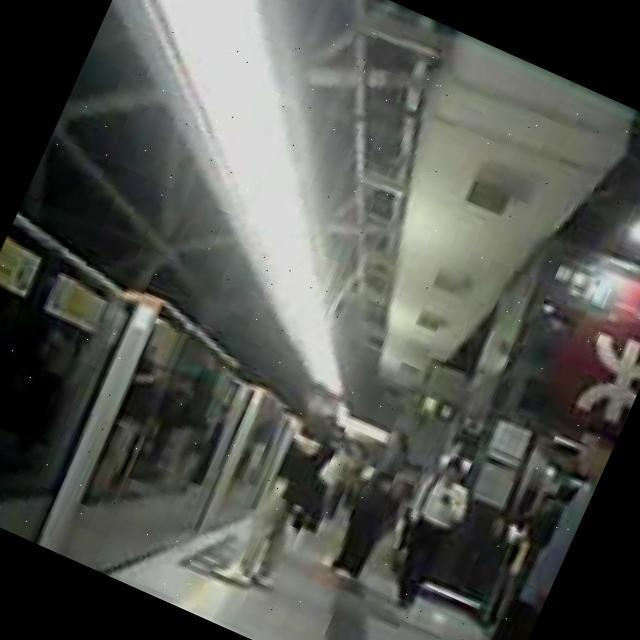person: (442, 413, 621, 640), (210, 374, 356, 600), (372, 448, 486, 618), (320, 424, 430, 588), (135, 369, 202, 473)
